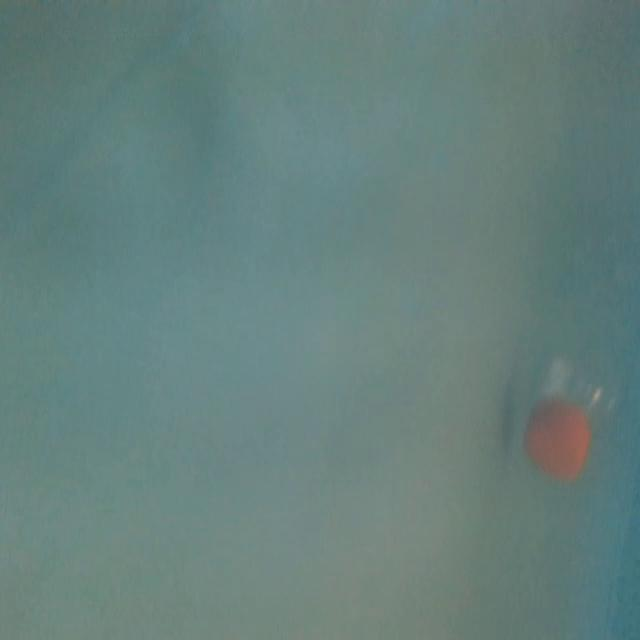plastic bottle: (517, 157, 640, 484)
